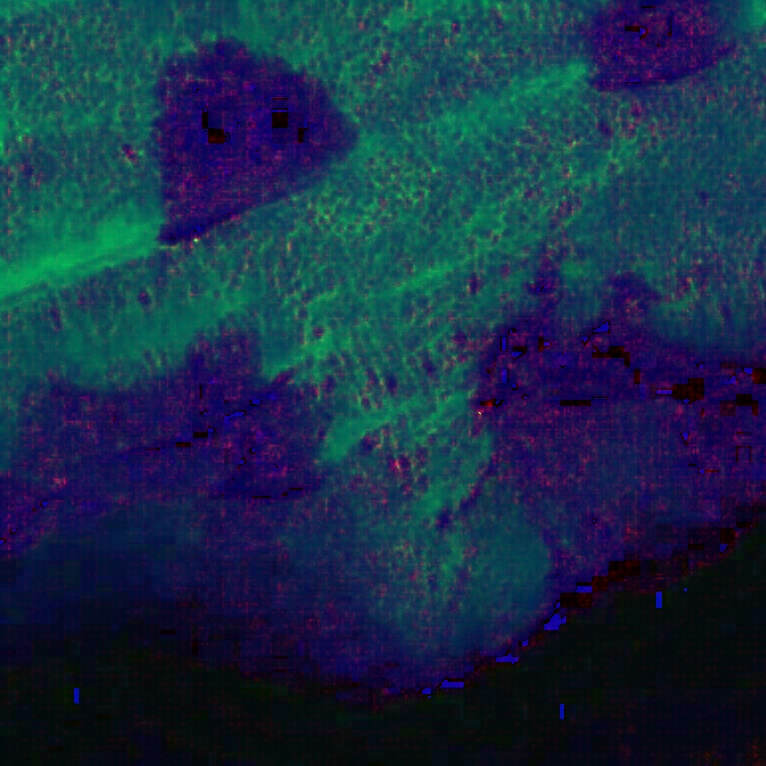rip_current: (190, 191, 559, 593)
